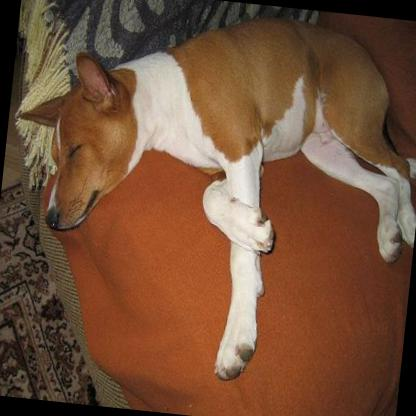basenji: (0, 0, 416, 396)
